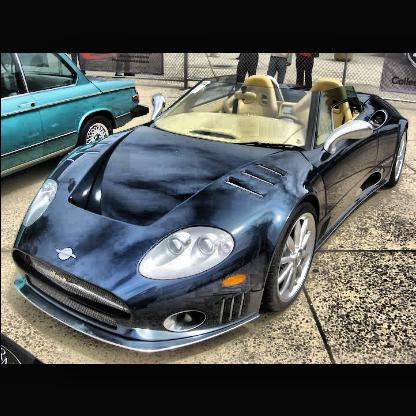Spyker C8 Convertible 2009: (11, 73, 409, 357)
